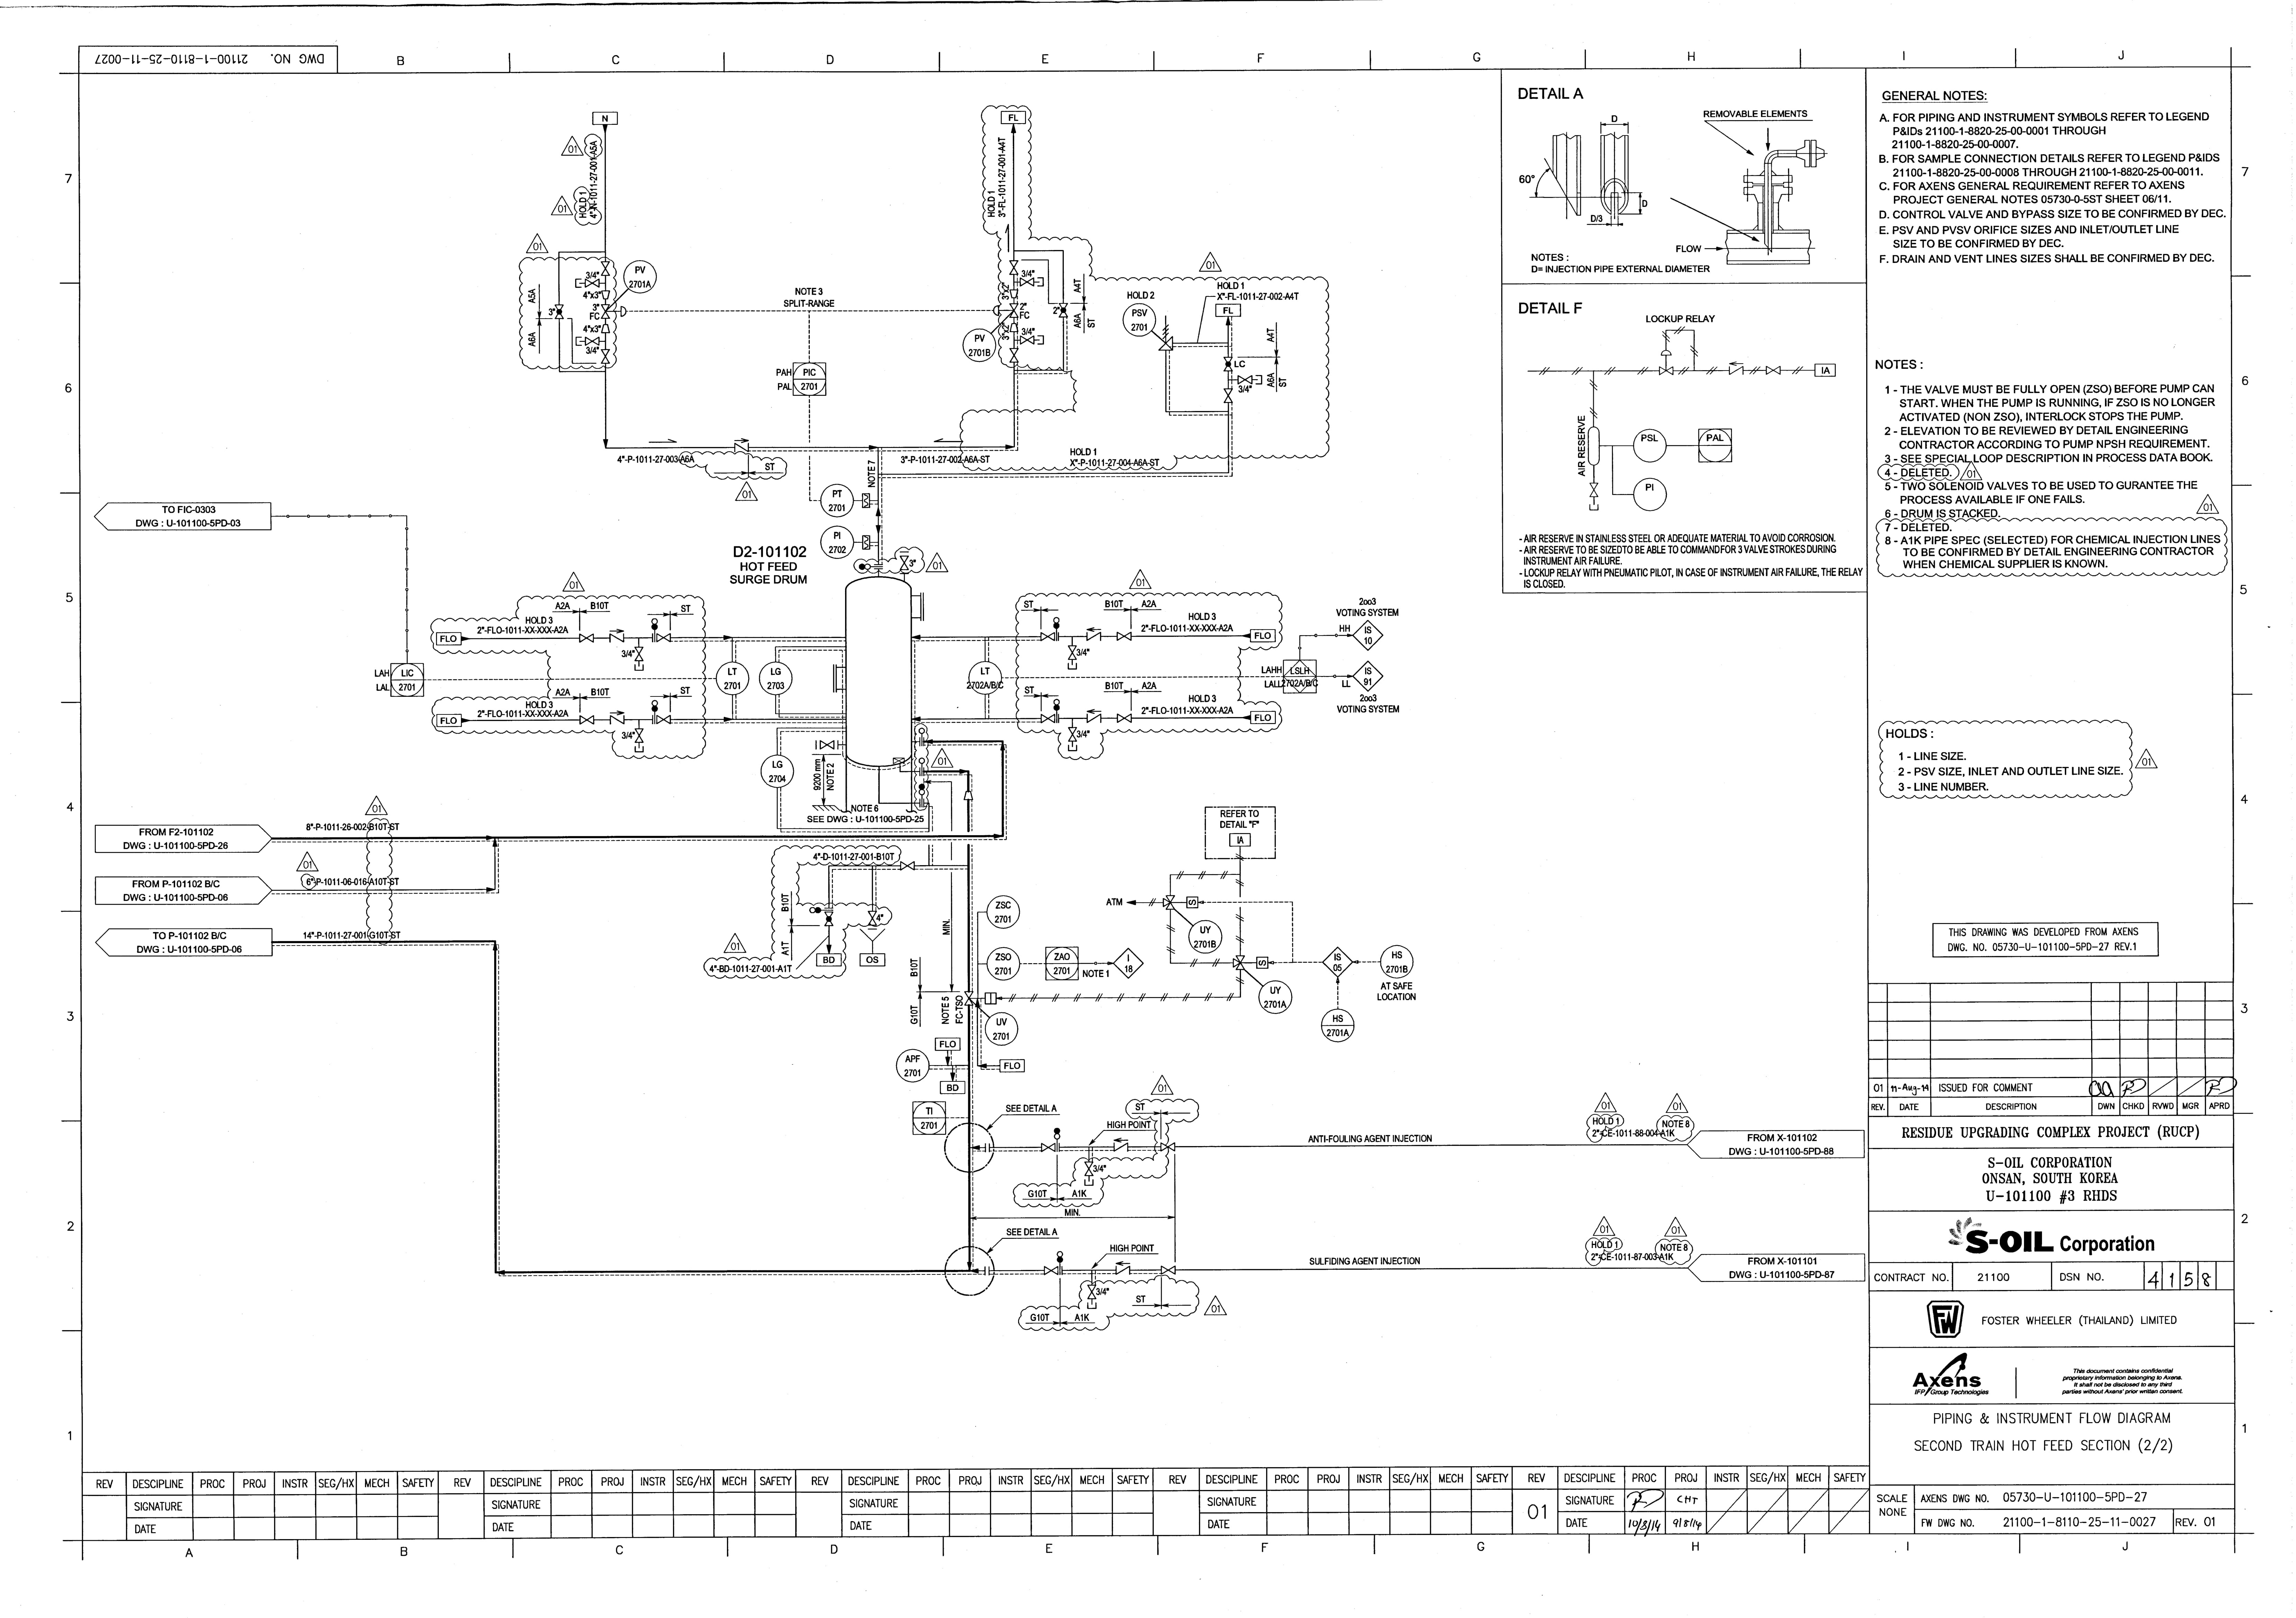NAS: (1601, 180, 1636, 196), (1743, 172, 1757, 196), (1813, 145, 1828, 161), (1795, 145, 1809, 161)
butterfly90: (553, 303, 564, 320), (1058, 301, 1068, 319), (1222, 355, 1233, 373), (823, 911, 834, 926)
reduce270: (601, 289, 611, 299), (1009, 289, 1019, 299)
reduce90: (601, 322, 611, 334), (1009, 322, 1019, 333)
valvecontrol0: (601, 303, 627, 320)
valvecontrol180: (991, 301, 1019, 319)
valvecontrol90: (1657, 348, 1674, 376)
